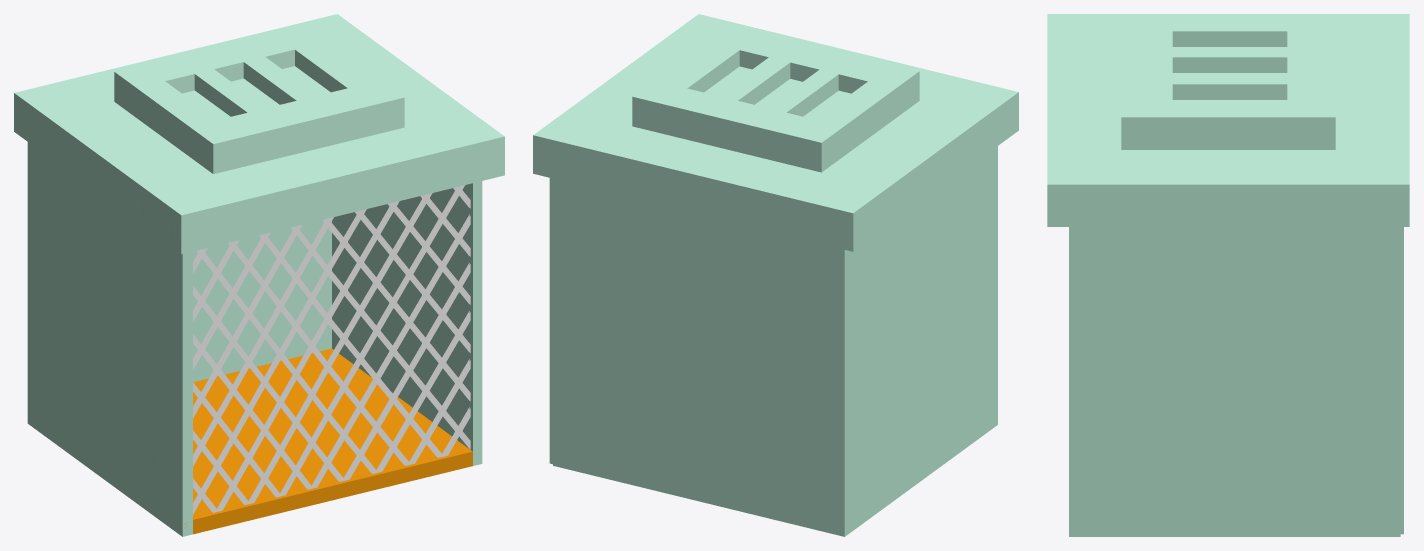
Rendered from telerport_5.fbx.
3 renders of one model, left to right at view 1: azimuth 30°, elevation 25°; view 2: azimuth 150°, elevation 25°; view 3: azimuth 270°, elevation 25°, orthographic. The views are drawn at different scales.
Parts seen in each view (by area): view 1: polySurface3, telerport_5, polySurface2; view 2: polySurface3; view 3: polySurface3.
Boxes of the visible parts, x1,y1,x2,y2 form: polySurface3: (14,14,504,536); telerport_5: (193,185,470,514); polySurface2: (184,348,472,534); polySurface3: (533,14,1018,536); polySurface3: (1047,14,1409,536).
Size of the model in its own units: 3.13 by 3.34 by 2.81.
2 materials, 2 textured.
